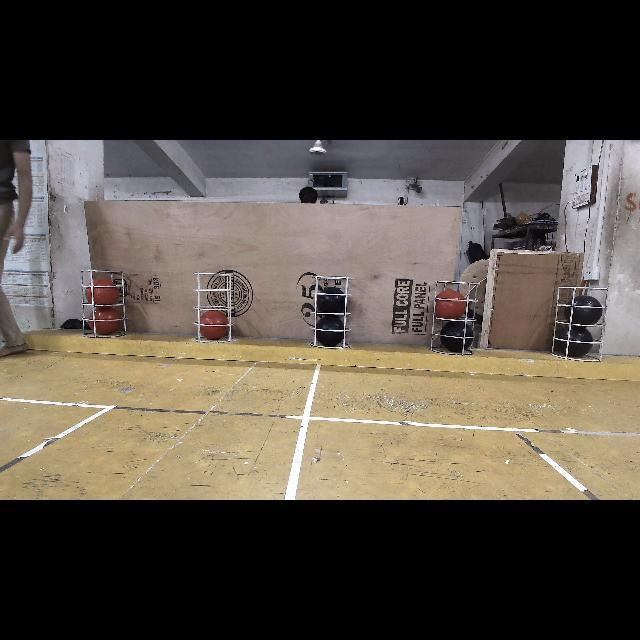P: (566, 296, 602, 328), (441, 321, 474, 354), (559, 325, 593, 357), (315, 287, 347, 317), (315, 318, 345, 348)
R: (198, 310, 230, 340), (436, 290, 466, 320), (88, 308, 120, 336), (87, 280, 119, 306)
S: (554, 281, 612, 357), (78, 264, 134, 334), (432, 276, 482, 354), (193, 268, 237, 346), (309, 272, 349, 344)
